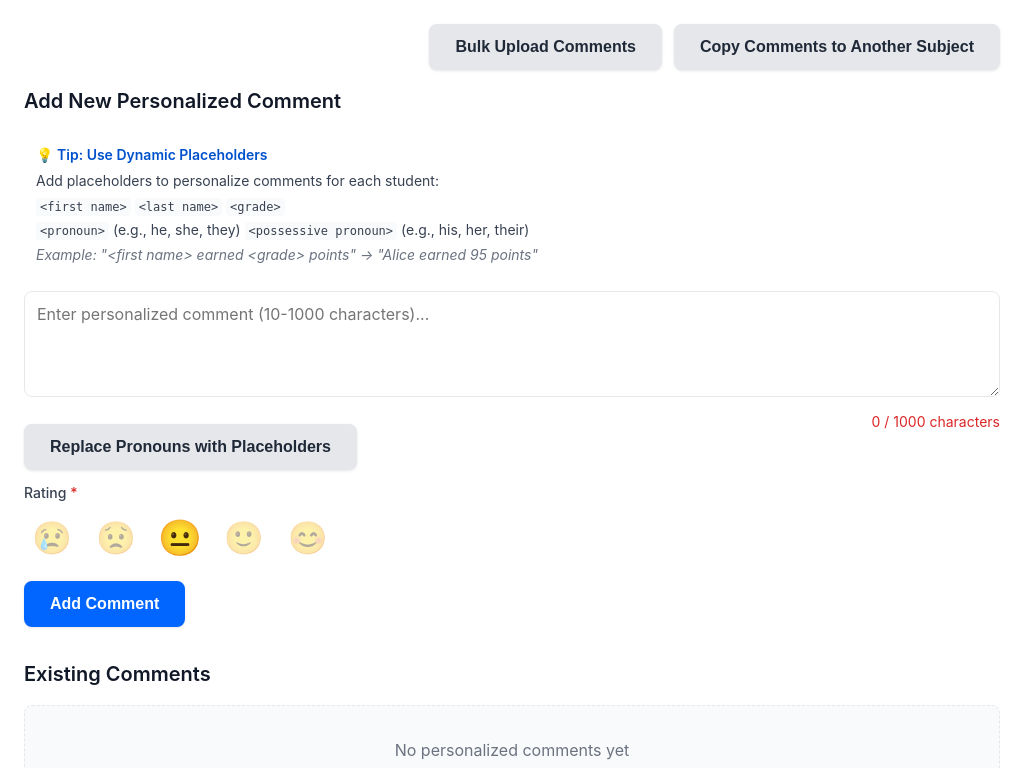
PersonalizedCommentsModal - Replace Pronouns with Placeholders Button › AC-3.2: Consistent Behavior › should have same behavior as bulk upload button (loading, success, error states)
Note: Type text and click
Type "He is excellent. His work is great." into the text box at (512, 344), box [24,291,1000,397]
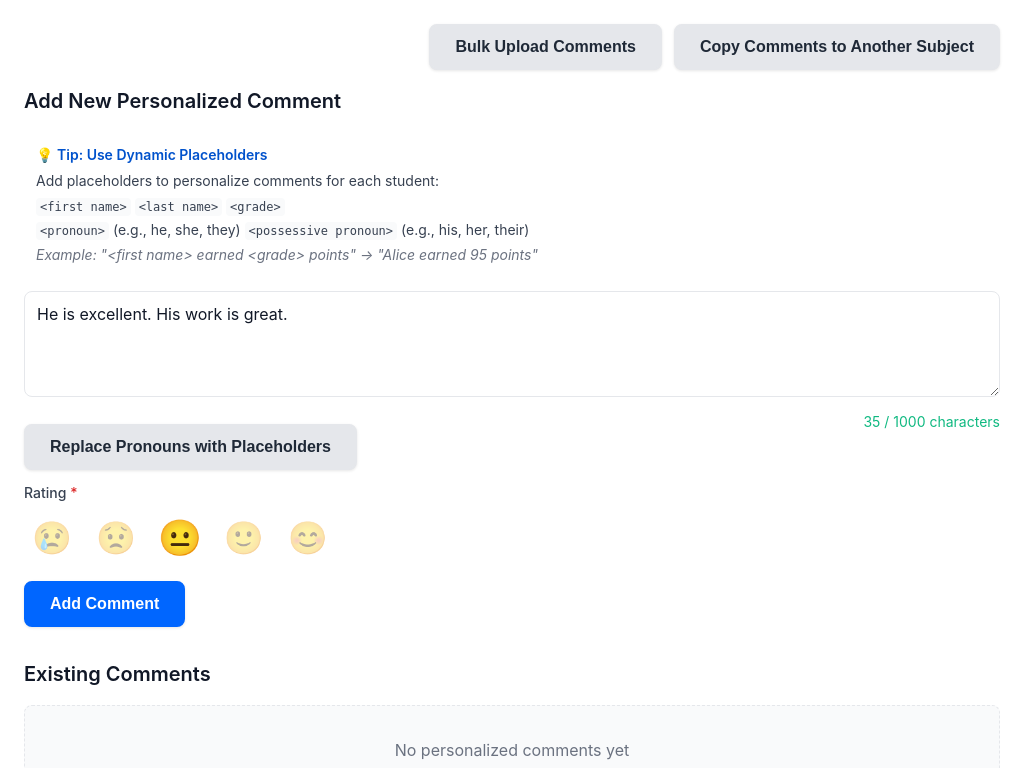
Click the button "Replace Pronouns with Placeholders" at (190, 447), box [24,424,357,470]
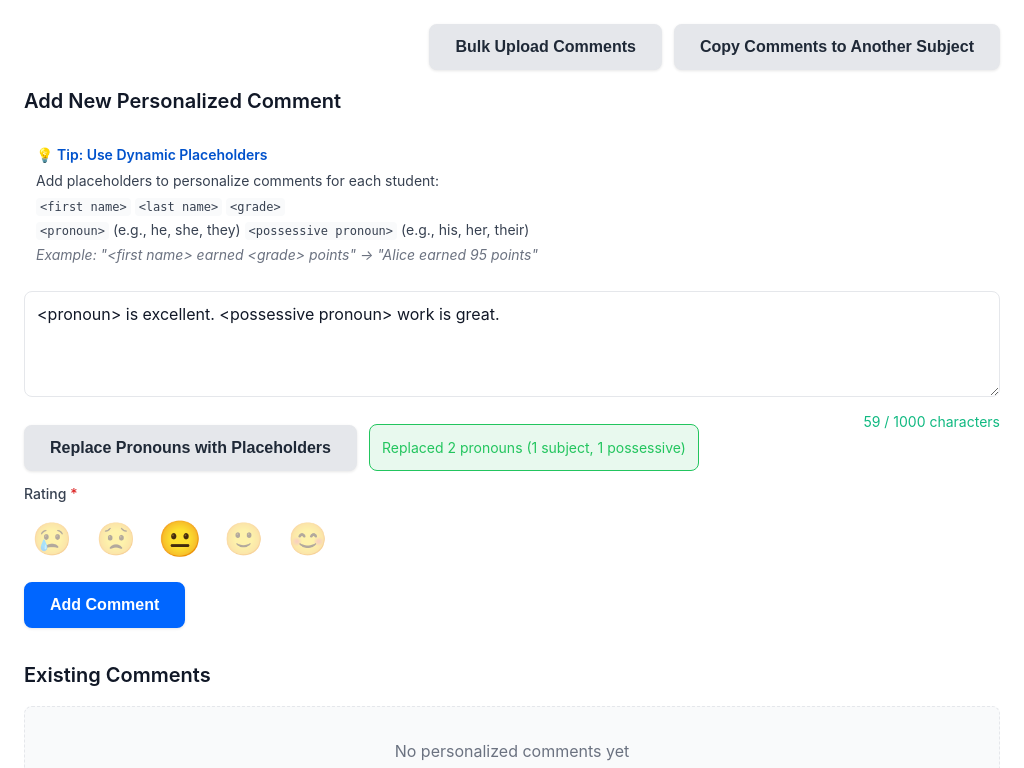
Now the text "Replaced 2 pronouns (1 subject, 1 possessive)" is shown, box [369,424,699,471]
